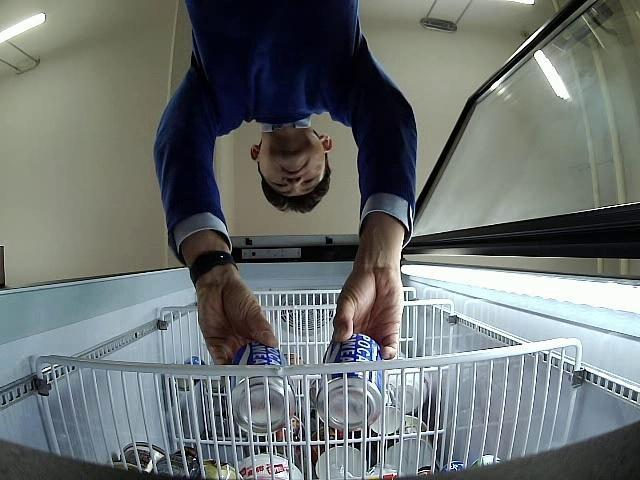13_pocariSweat: (316, 334, 382, 432), (231, 340, 296, 436)
